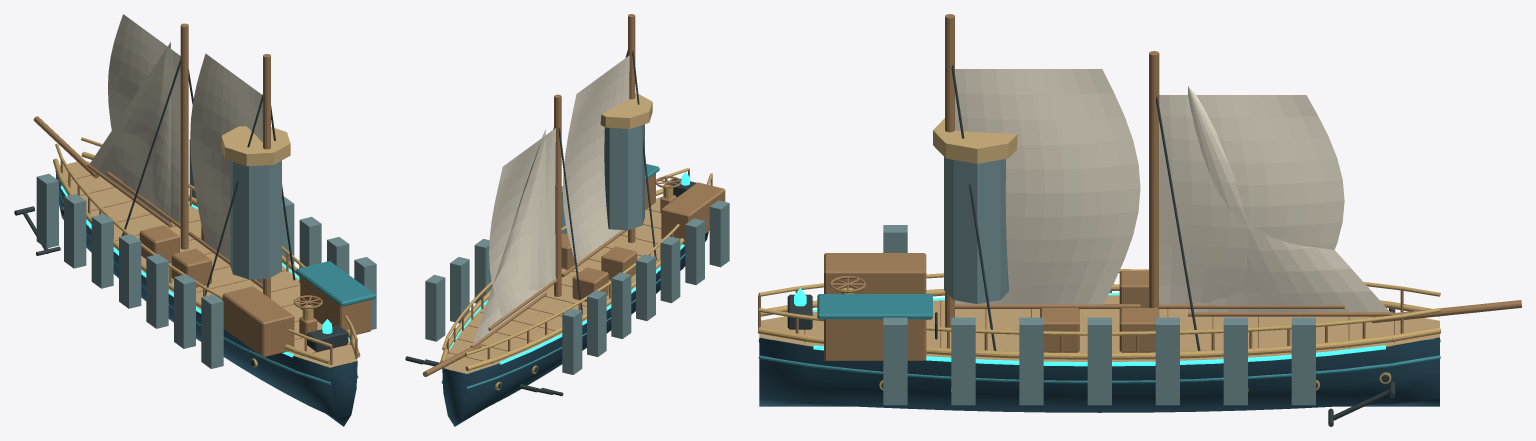
File: ship_schooner.glb
The picture shows the model from 3 angles, left to right: view 1: azimuth 30°, elevation 25°; view 2: azimuth 150°, elevation 25°; view 3: azimuth 270°, elevation 25°; orthographic projection. The views are drawn at different scales.
Parts seen in each view (by area): view 1: ship_schooner; view 2: ship_schooner; view 3: ship_schooner.
Boxes of the visible parts, x1,y1,x2,y2 form: ship_schooner: [14, 14, 376, 426]; ship_schooner: [405, 14, 729, 426]; ship_schooner: [758, 14, 1521, 426].
Bounding box in the file's own units: 4.18 × 7.6 × 13.47.
